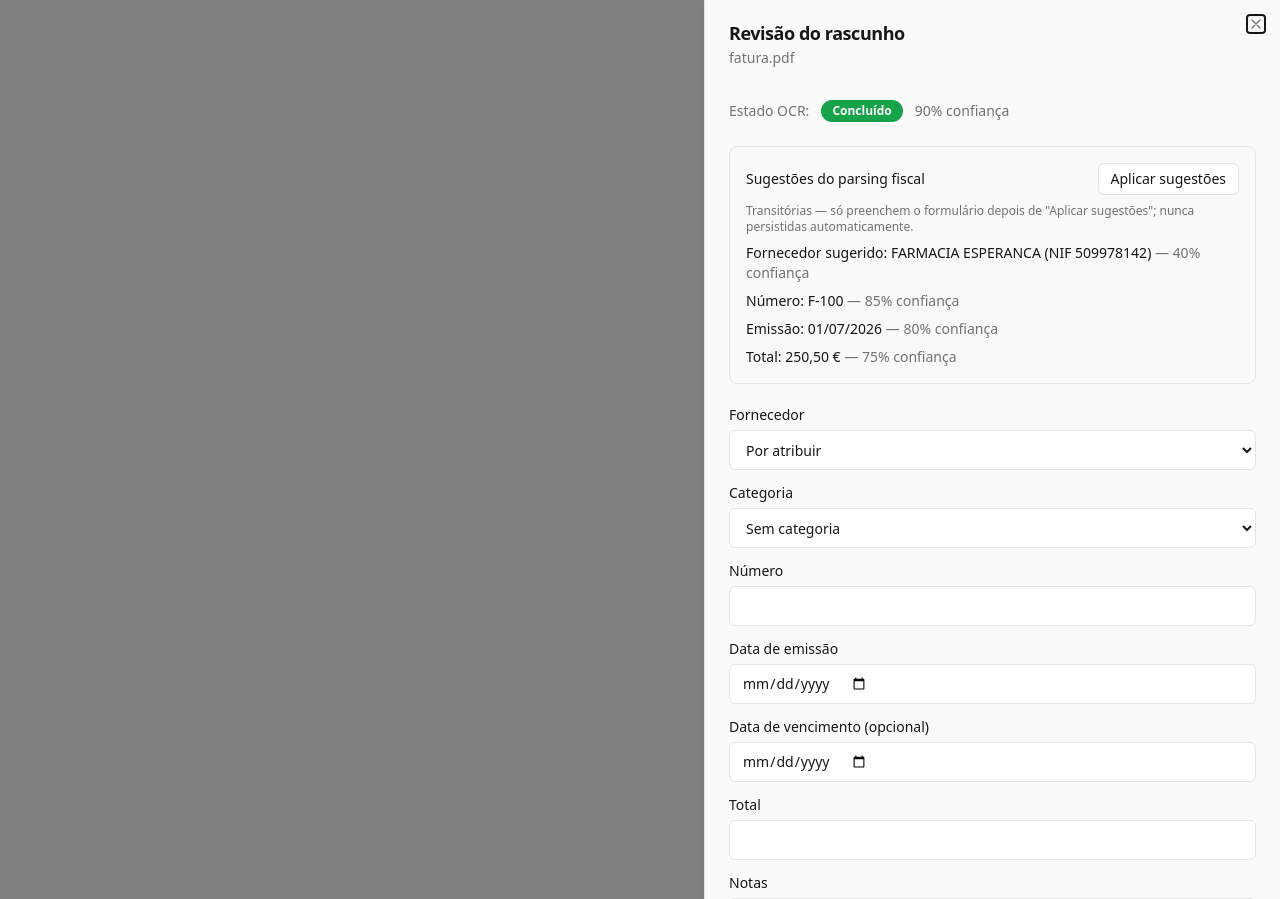
Test: InvoiceDraftReviewSheet (Fase 6.8) › "Aplicar sugestões" resolve o fornecedor (correção Fase 6.8) › regressão real ("FARMACIA ESPERANCA"/NIF 509978142, capturada via OCR/parsing reais em Docker): supplier.value é objeto, sem rótulo "Fornecedor:" no documento —
What coordinates should you click on to do the following:
click the button "Aplicar sugestões"
I would click on:
 (1168, 179)
Its box is [1098,163,1239,195].
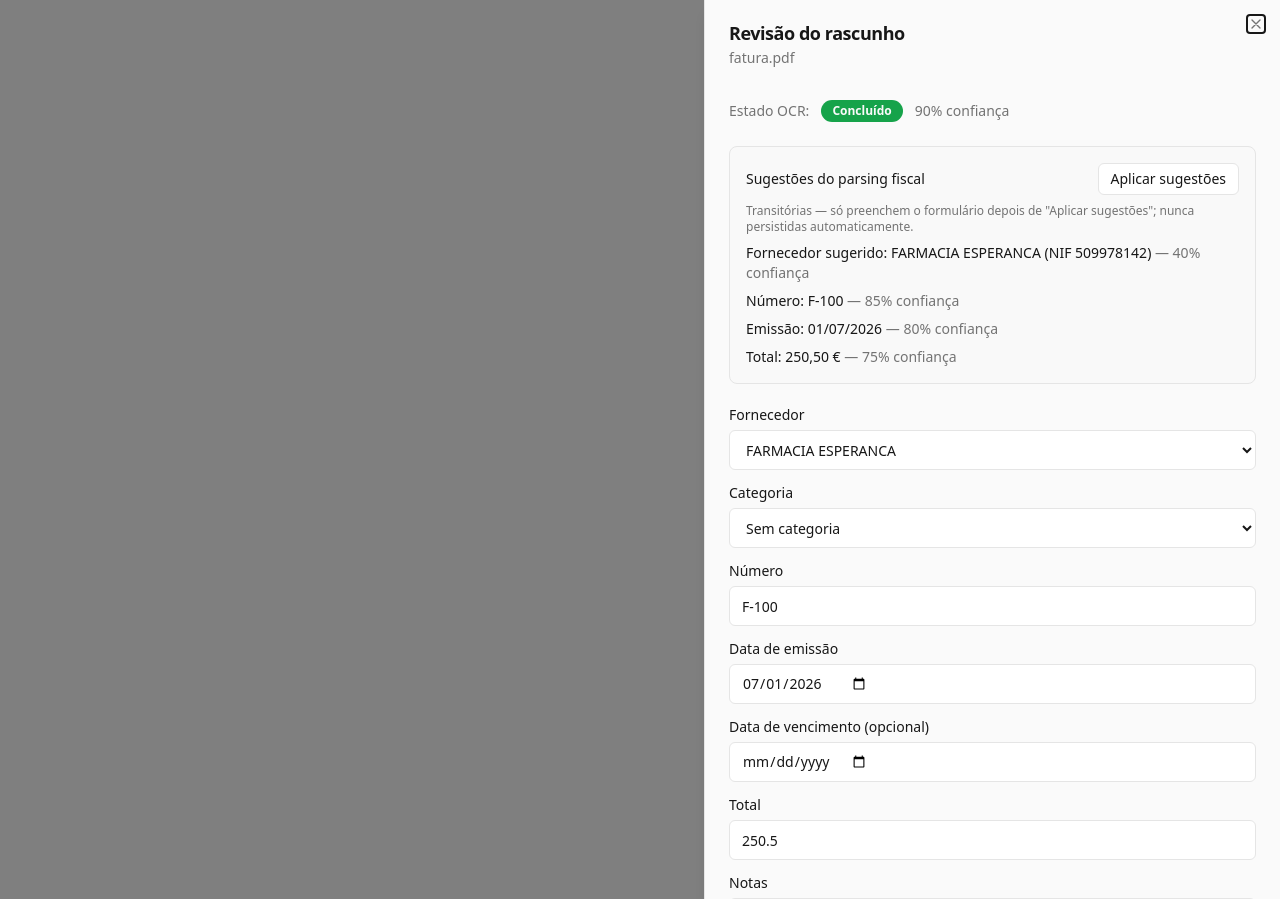
Expected: the 1st dropdown shows "FARMACIA ESPERANCA", [729,430,1256,470]
